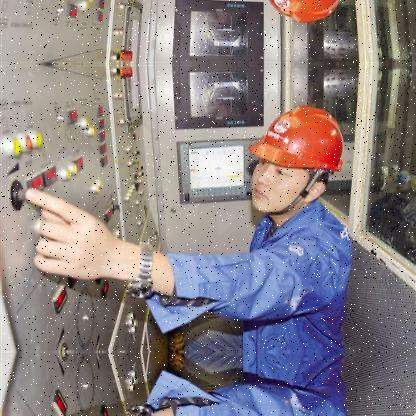Helmet: (244, 112, 350, 214), (260, 0, 345, 33)
